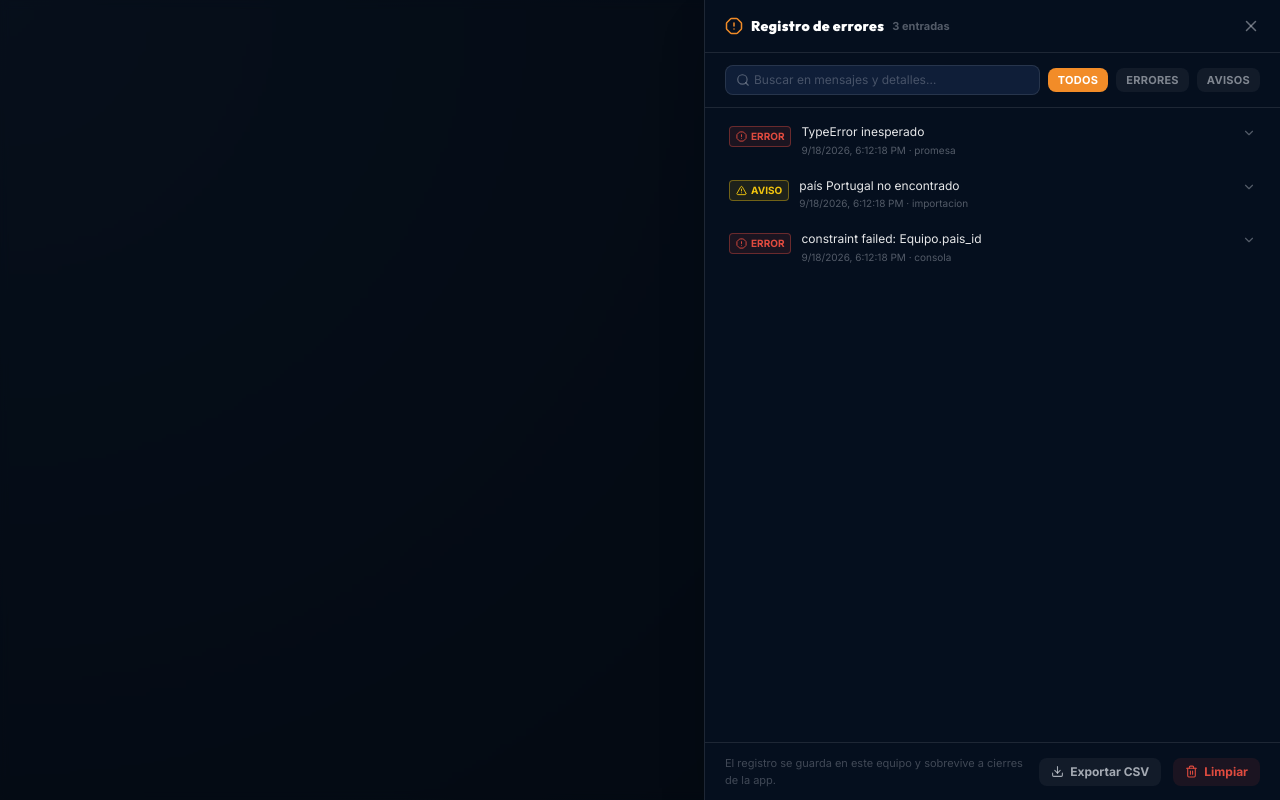
Test: PanelErrores › expandir una fila muestra su detalle
What coordinates should you click on to do the following:
click the text "constraint failed: Equipo.pais_id"
I would click on:
 (892, 238)
Its box is 802,231 -> 982,246.
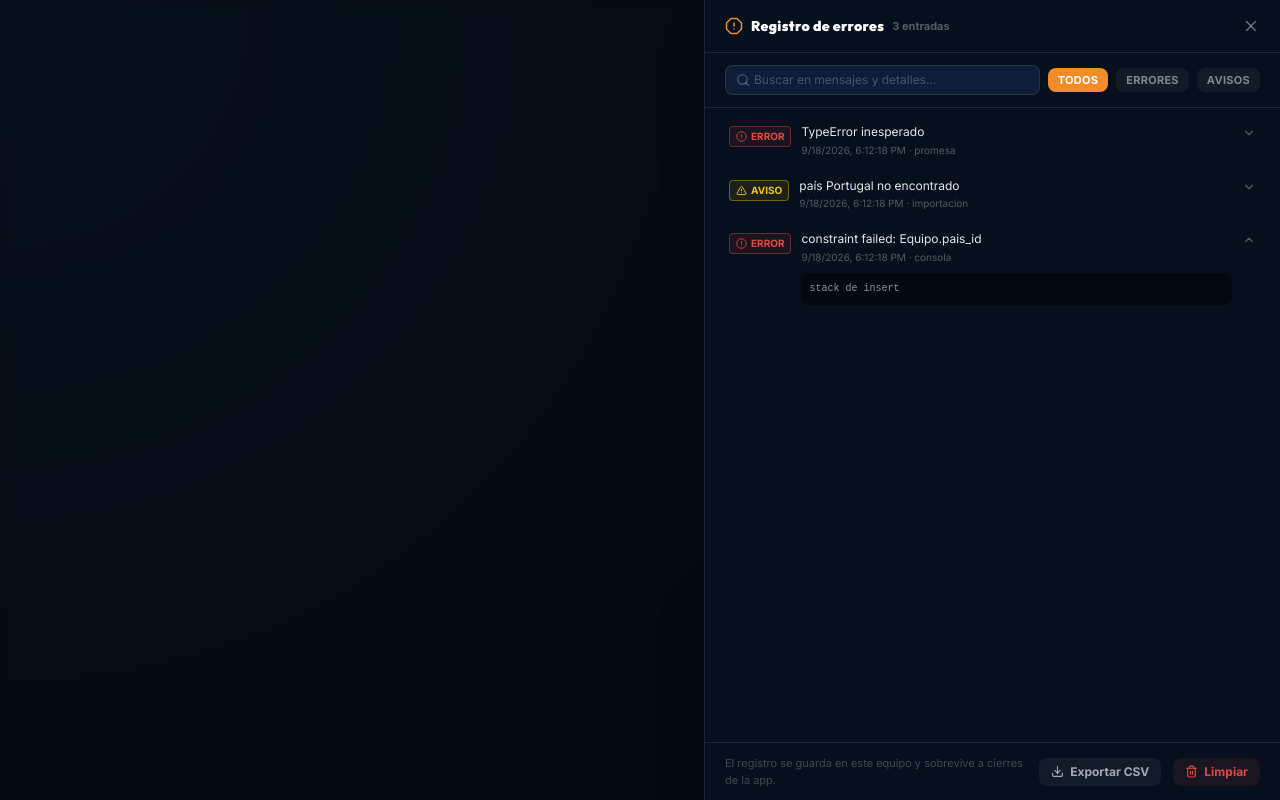
expect the text "stack de insert" is shown: met, box 802,272 -> 1232,305
